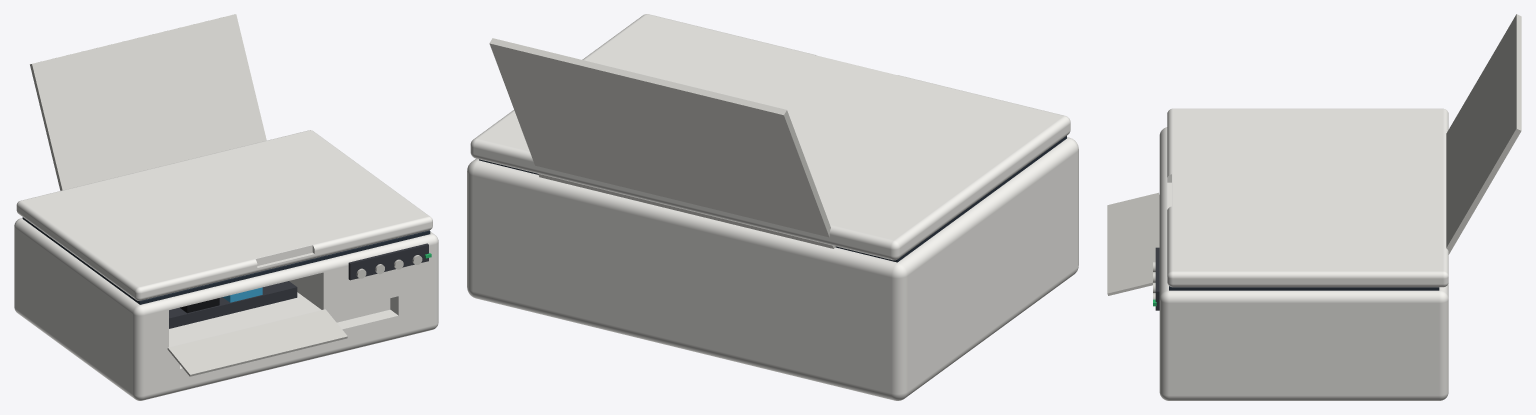
Rendered from printer_door_open.glb.
The picture shows the model from 3 angles, left to right: view 1: azimuth 30°, elevation 25°; view 2: azimuth 150°, elevation 25°; view 3: azimuth 270°, elevation 25°; orthographic projection. The views are drawn at different scales.
Visible parts, largest first — view 1: lid, body, input_tray, ink_door, carriage, scanner_glass, panel; view 2: body, lid, input_tray, scanner_glass; view 3: lid, body, input_tray, ink_door, scanner_glass.
Part boxes in pixels (box(x1,y1,x2,y2)): lid: box(16, 130, 432, 300); body: box(14, 218, 438, 400); input_tray: box(30, 14, 266, 190); ink_door: box(167, 309, 347, 376); carriage: box(169, 281, 297, 328); scanner_glass: box(22, 217, 430, 304); panel: box(348, 243, 428, 280); body: box(467, 137, 1078, 400); lid: box(470, 14, 1070, 260); input_tray: box(489, 38, 835, 248); scanner_glass: box(479, 136, 1066, 262); lid: box(1167, 108, 1448, 287); body: box(1159, 127, 1448, 400); input_tray: box(1446, 14, 1521, 254); ink_door: box(1107, 192, 1159, 295); scanner_glass: box(1169, 286, 1439, 290).
Bounding box in the file's own units: 0.425 × 0.29 × 0.4354.
